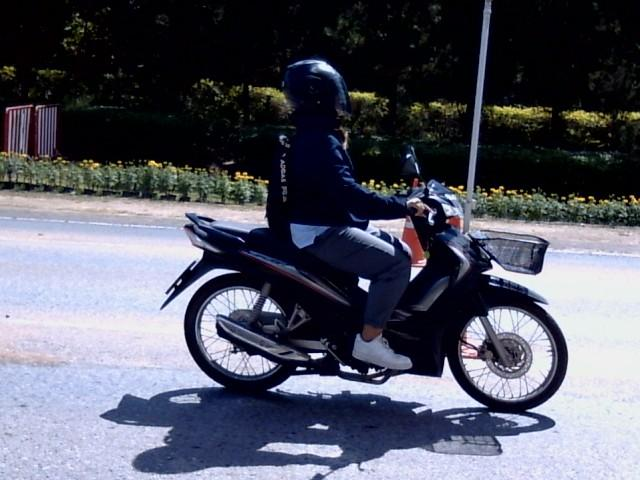helmet: (281, 52, 352, 126)
motor: (161, 180, 567, 412)
person: (266, 60, 432, 368)
